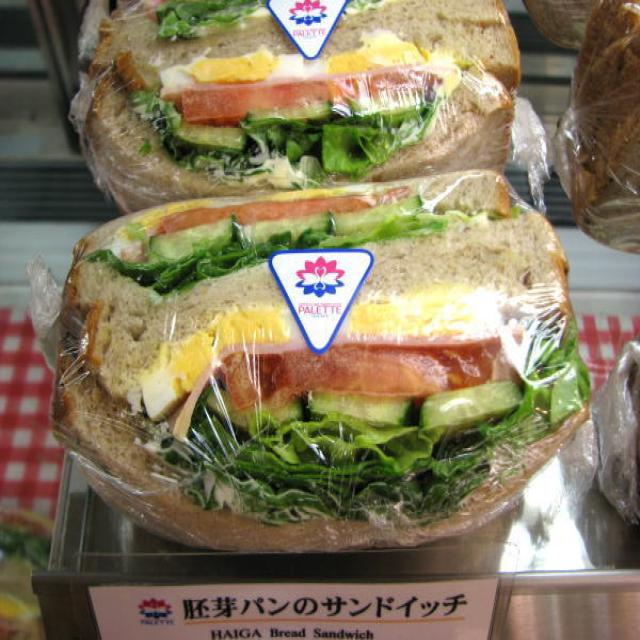三明治: (80, 183, 563, 538)
